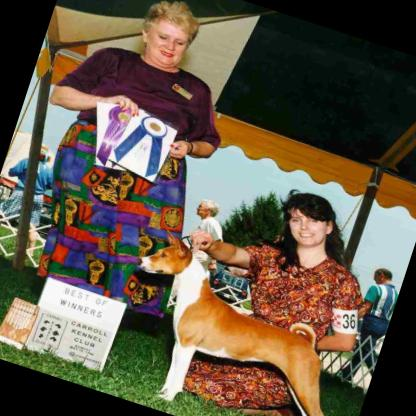basenji: (94, 221, 379, 416)
